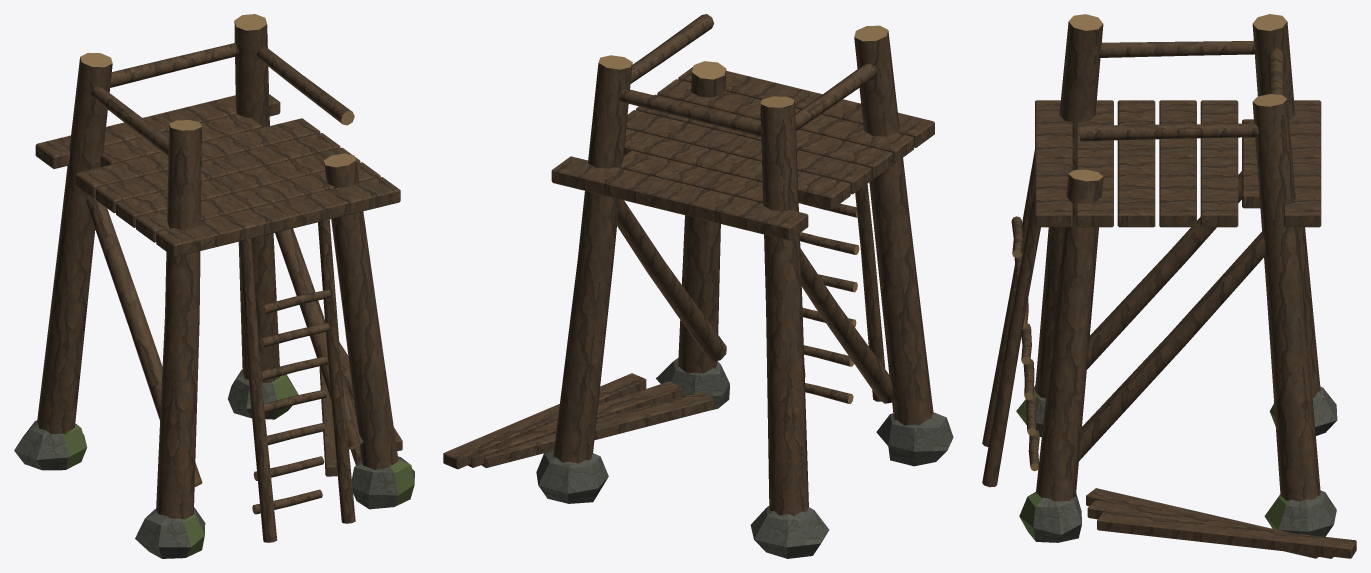
File: source_5.glb
3 views of the same model, side by side, from view 1: azimuth 30°, elevation 25°; view 2: azimuth 150°, elevation 25°; view 3: azimuth 270°, elevation 25° (orthographic). The views are drawn at different scales.
Parts seen in each view (by area): view 1: woodland-ruined-watchtower · evaluated preview mesh; view 2: woodland-ruined-watchtower · evaluated preview mesh; view 3: woodland-ruined-watchtower · evaluated preview mesh.
Boxes of the visible parts, left/top/right/bottom form: woodland-ruined-watchtower · evaluated preview mesh: left=14, top=14, right=414, bottom=558; woodland-ruined-watchtower · evaluated preview mesh: left=443, top=14, right=953, bottom=558; woodland-ruined-watchtower · evaluated preview mesh: left=982, top=14, right=1356, bottom=558.
Bounding box in the file's own units: 5.4 × 6.15 × 4.97.
4 materials, 2 textured.
